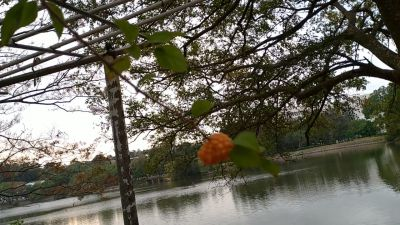eggs: (198, 131, 233, 165)
